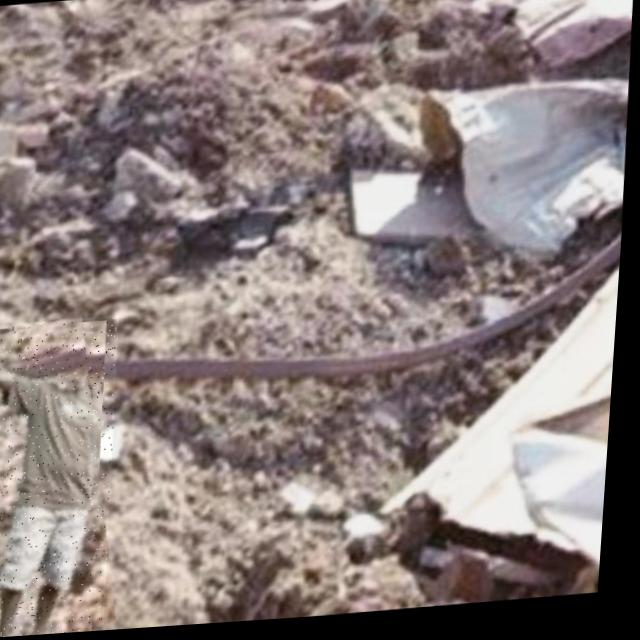Person in Rubble: (0, 316, 129, 640)
